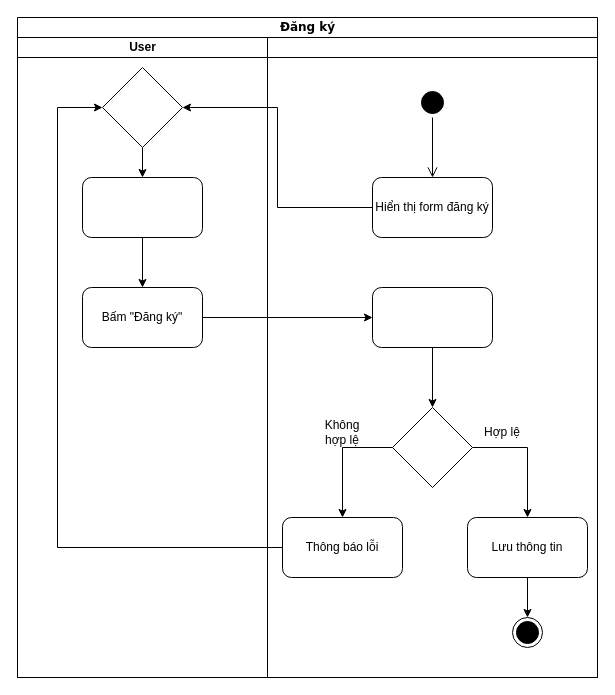
The diagram is 615 pixels wide and 695 high, and some of its shapes have lost their labels. The box of each missing label's shape, as (x1, y1, x2, y2) in pixels:
Hệ thống: (266, 36, 598, 678)
Kiểm tra thông tin: (372, 286, 492, 348)
Điền form đăng ký: (82, 176, 202, 238)
